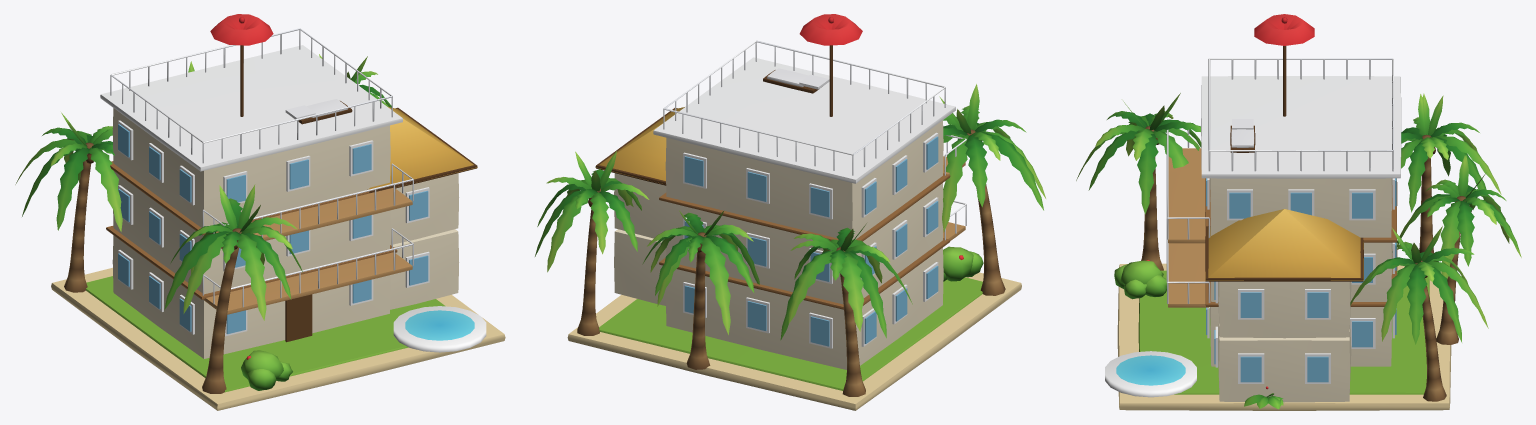
The model's file is BeachHotel_L4.obj.
3 views of the same model, side by side, from view 1: azimuth 30°, elevation 25°; view 2: azimuth 150°, elevation 25°; view 3: azimuth 270°, elevation 25° (orthographic).
Parts seen in each view (by area): view 1: BeachHotel_L4; view 2: BeachHotel_L4; view 3: BeachHotel_L4.
Part boxes in pixels (left/top/right/bottom): BeachHotel_L4: left=15, top=14, right=505, bottom=410; BeachHotel_L4: left=535, top=14, right=1045, bottom=410; BeachHotel_L4: left=1076, top=14, right=1521, bottom=410.
Size of the model in its own units: 5.14 by 4.06 by 5.35.
Materials: 1 (1 with a texture image).
